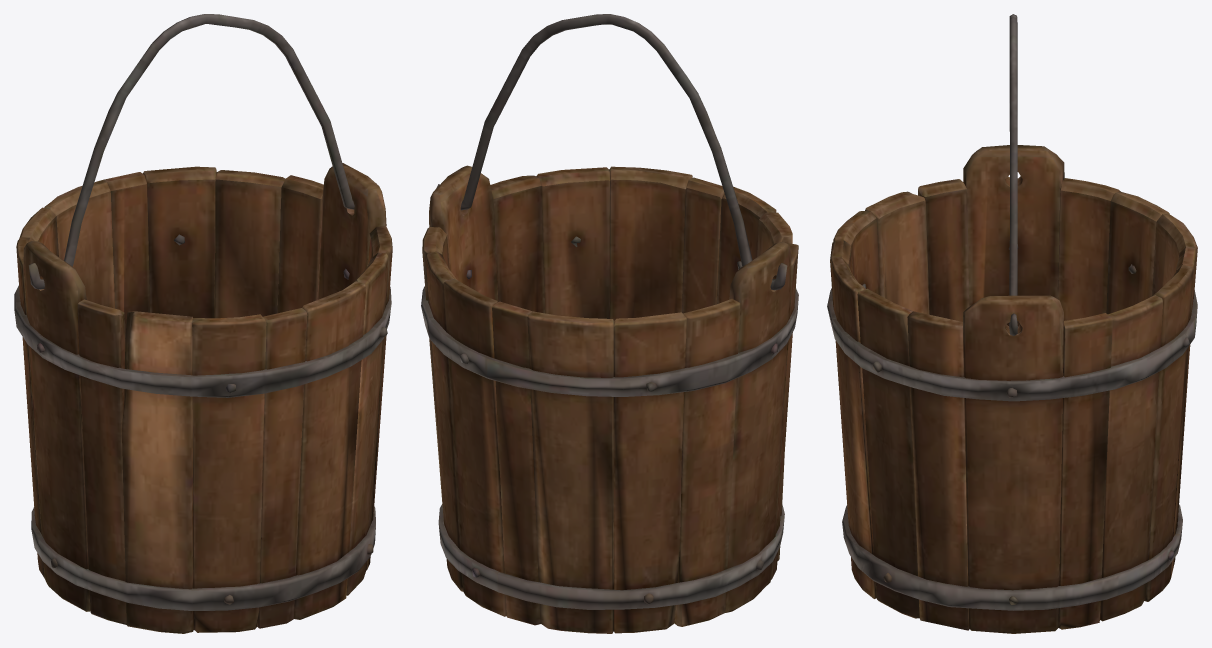
File: wooden_bucket_01.glb
3 renders of one model, left to right at view 1: azimuth 30°, elevation 25°; view 2: azimuth 150°, elevation 25°; view 3: azimuth 270°, elevation 25°, orthographic.
Parts seen in each view (by area): view 1: wooden_bucket_01, wooden_bucket_01_handle; view 2: wooden_bucket_01, wooden_bucket_01_handle; view 3: wooden_bucket_01, wooden_bucket_01_handle.
Part boxes in pixels (bbox=[...]): wooden_bucket_01: bbox=[14, 163, 392, 633]; wooden_bucket_01_handle: bbox=[28, 14, 376, 289]; wooden_bucket_01: bbox=[421, 165, 798, 633]; wooden_bucket_01_handle: bbox=[436, 14, 787, 290]; wooden_bucket_01: bbox=[827, 145, 1197, 633]; wooden_bucket_01_handle: bbox=[1009, 14, 1017, 335].
Bounding box in the file's own units: 0.3663 × 0.5499 × 0.3419.
Materials: 1 (1 with a texture image).
